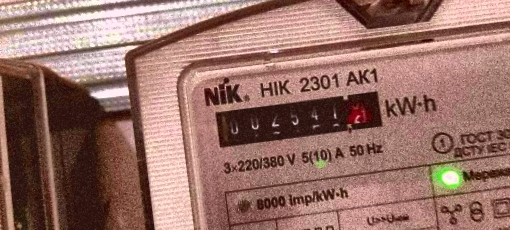0: (226, 113, 241, 136), (246, 109, 261, 131)
1: (327, 97, 340, 121)
2: (266, 105, 283, 129)
4: (307, 100, 320, 122)
5: (286, 103, 302, 127)
6: (350, 110, 363, 124)
screen: (201, 79, 395, 155)
